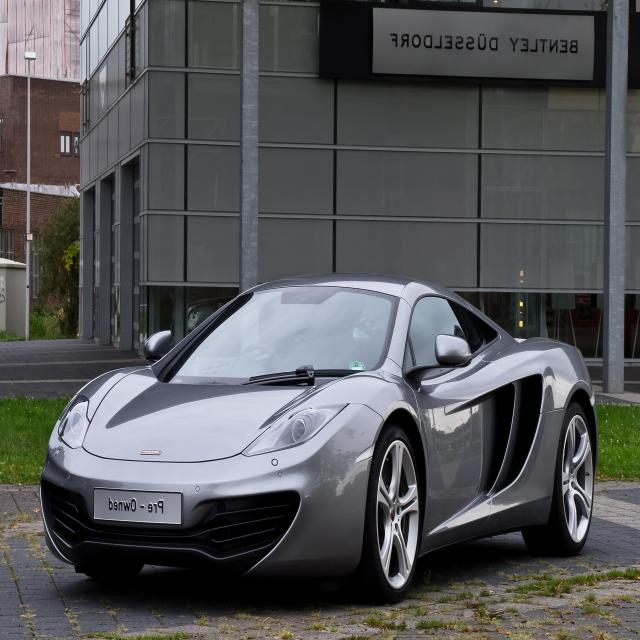car: (39, 272, 600, 604)
